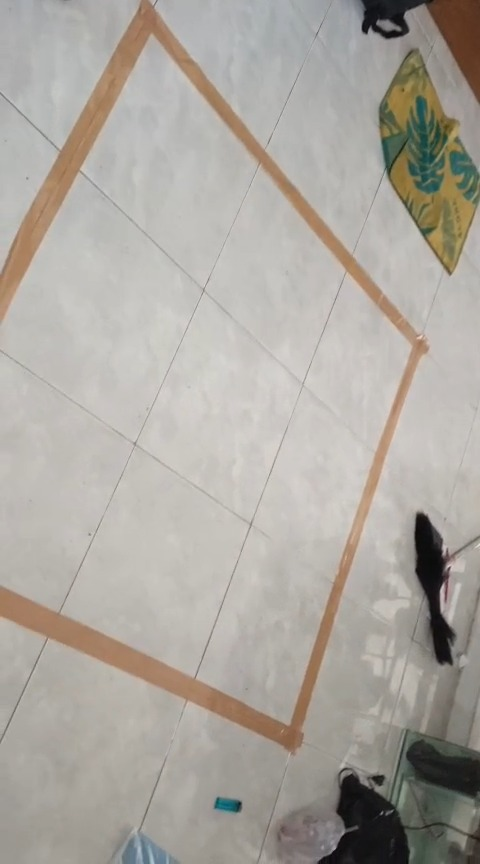floor marking: (0, 0, 427, 751)
